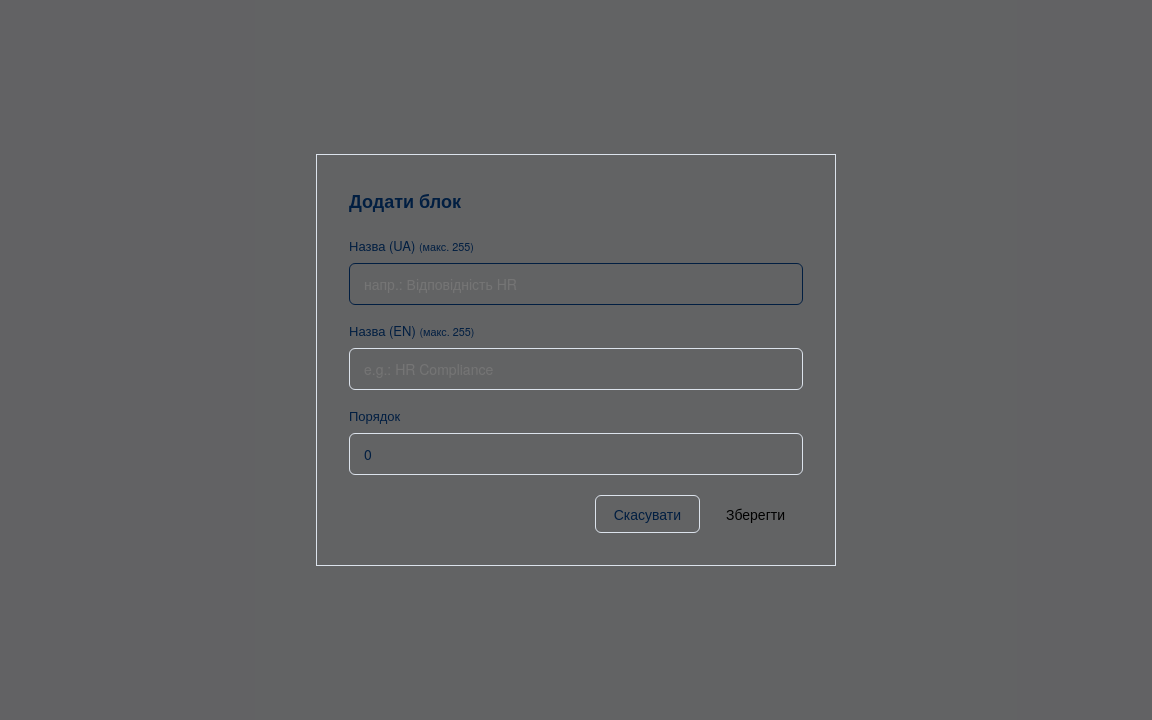
Test: field_too_long in the save modals › AdminBlockModal names the field and the limit
The width and height of the screenshot is (1152, 720).
Step 1. Type "Блок" into the field with placeholder "напр.: Відповідність HR" → (576, 284), box [349,263,803,305]
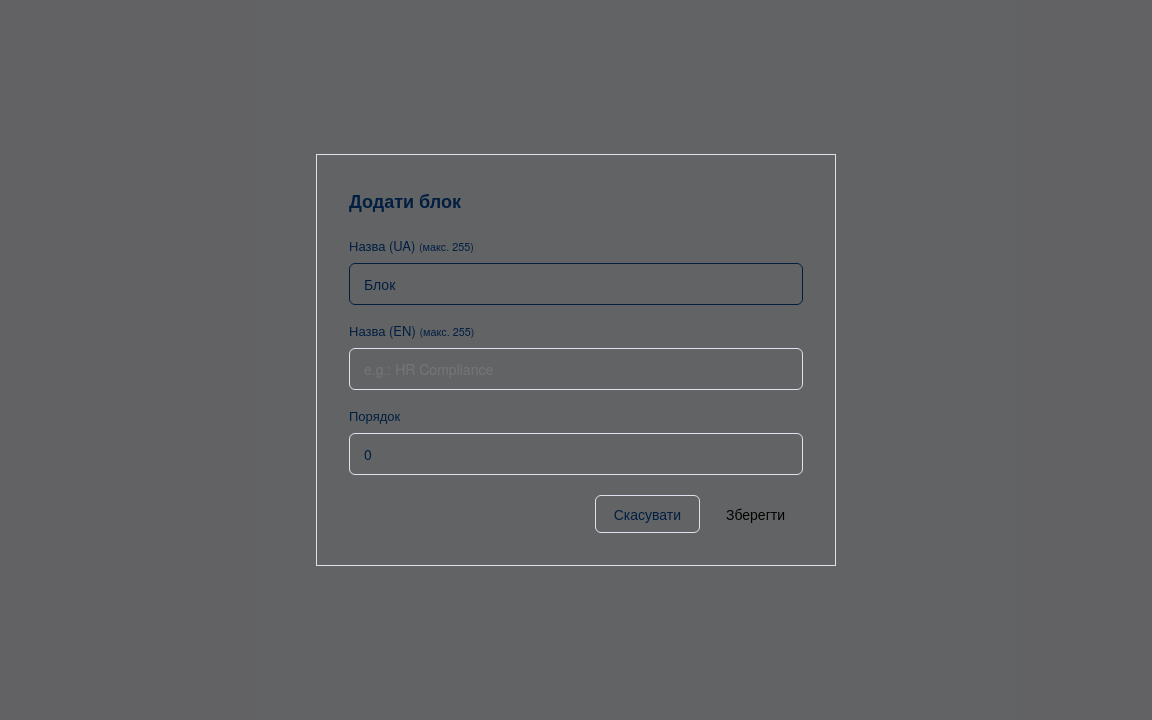
Step 2. Click the button "Зберегти" → (756, 514), box [708,495,803,533]
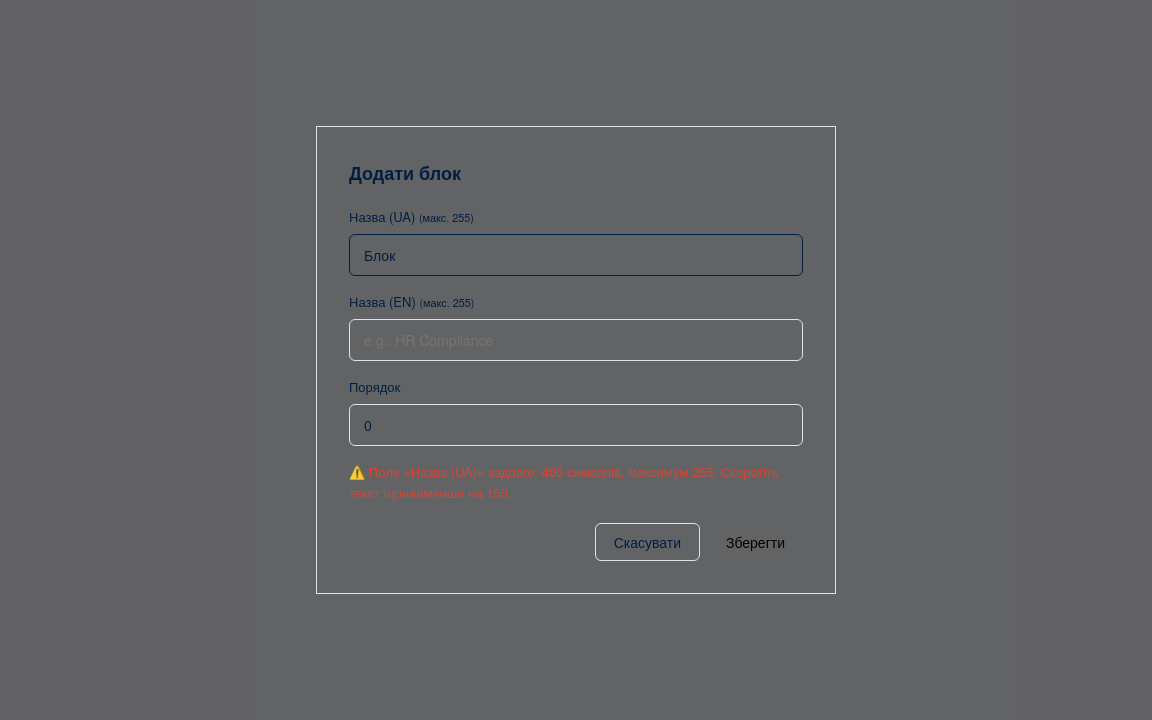
Now the text "Поле «Назва (UA)» задовге" shows "405", box [349,462,779,502]
Now the text "Поле «Назва (UA)» задовге" shows "255", box [349,462,779,502]
Now the text "Поле «Назва (UA)» задовге" shows "150", box [349,462,779,502]
